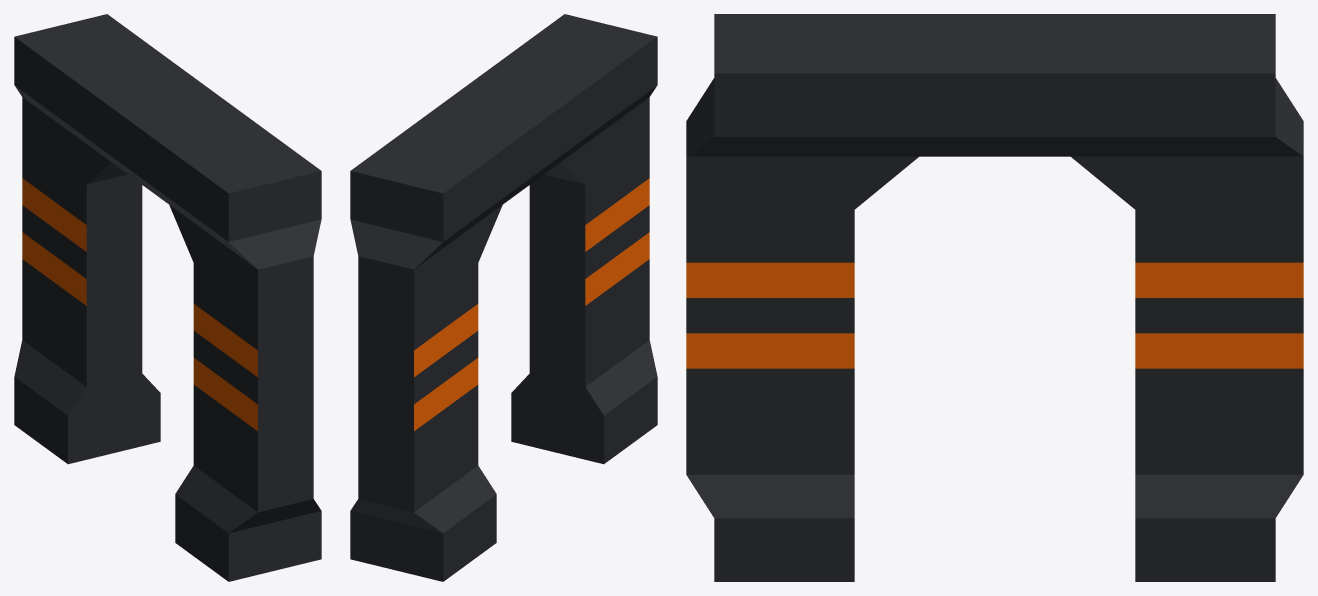
File: Wall_2x2_Door_Frame.fbx
3 views of the same model, side by side, from view 1: azimuth 30°, elevation 25°; view 2: azimuth 150°, elevation 25°; view 3: azimuth 270°, elevation 25° (orthographic). The views are drawn at different scales.
Visible parts, largest first — view 1: Wall_Door_Frame; view 2: Wall_Door_Frame; view 3: Wall_Door_Frame.
Part boxes in pixels (x1,y1,x2,y2): Wall_Door_Frame: (14,14,321,581); Wall_Door_Frame: (350,14,657,581); Wall_Door_Frame: (686,14,1303,581).
Size of the model in its own units: 50 by 200 by 220.
